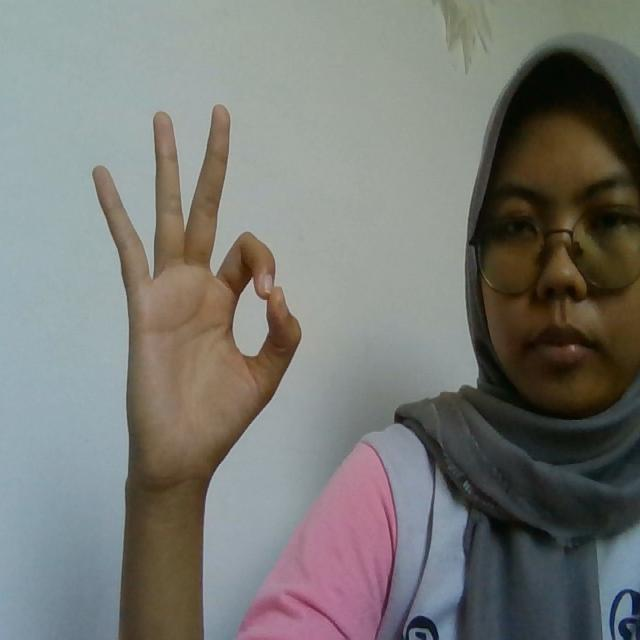F: (92, 102, 304, 478)
